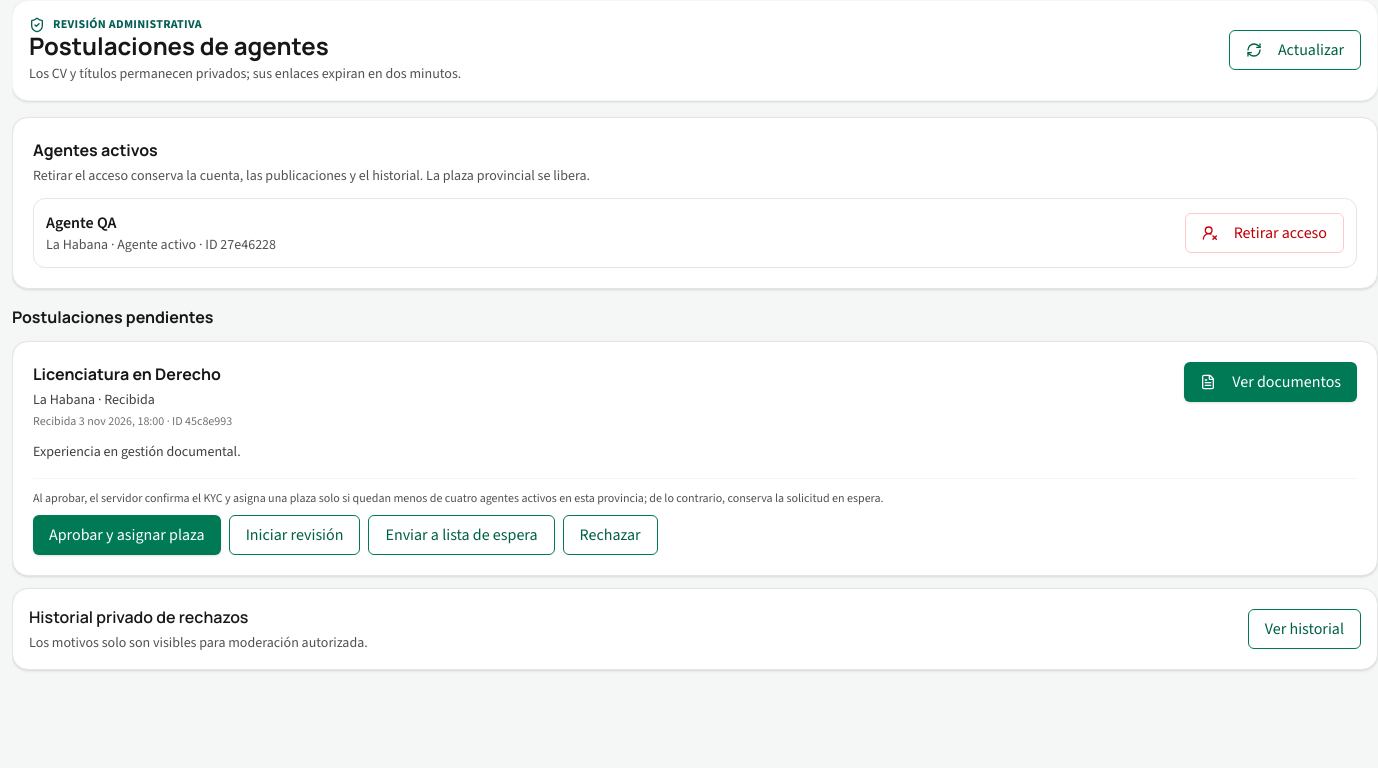
AgentApplicationsModerationTab › explains that admin permission is missing when the protected endpoint denies the document request
Step 1. Click the button "Ver documentos" → [1271, 382], box x1=1184 y1=362 x2=1357 y2=402
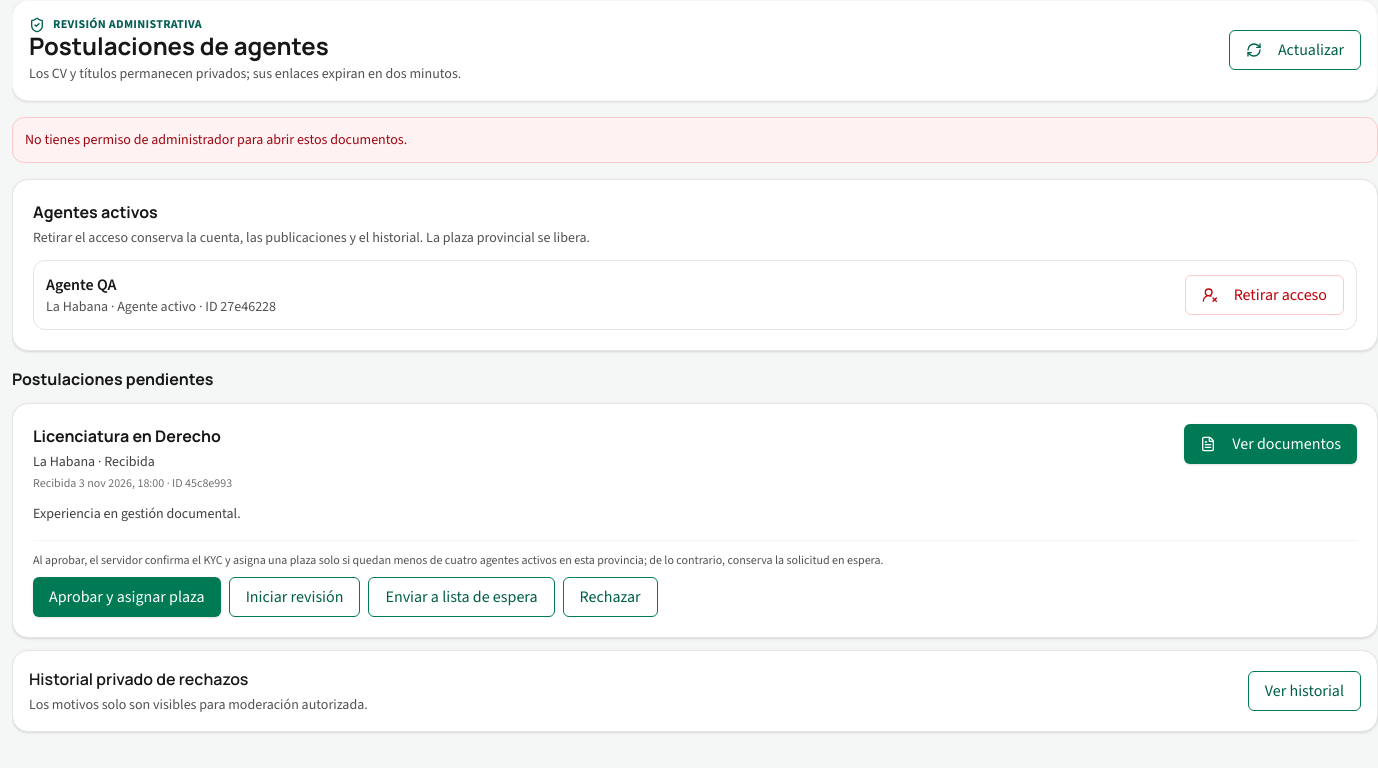
Result: the message shows "permiso de administrador" at x1=25 y1=130 x2=407 y2=150
